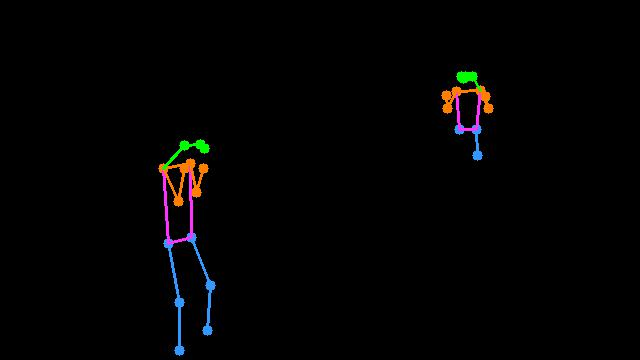normal: (141, 118, 236, 360), (436, 63, 500, 168)
